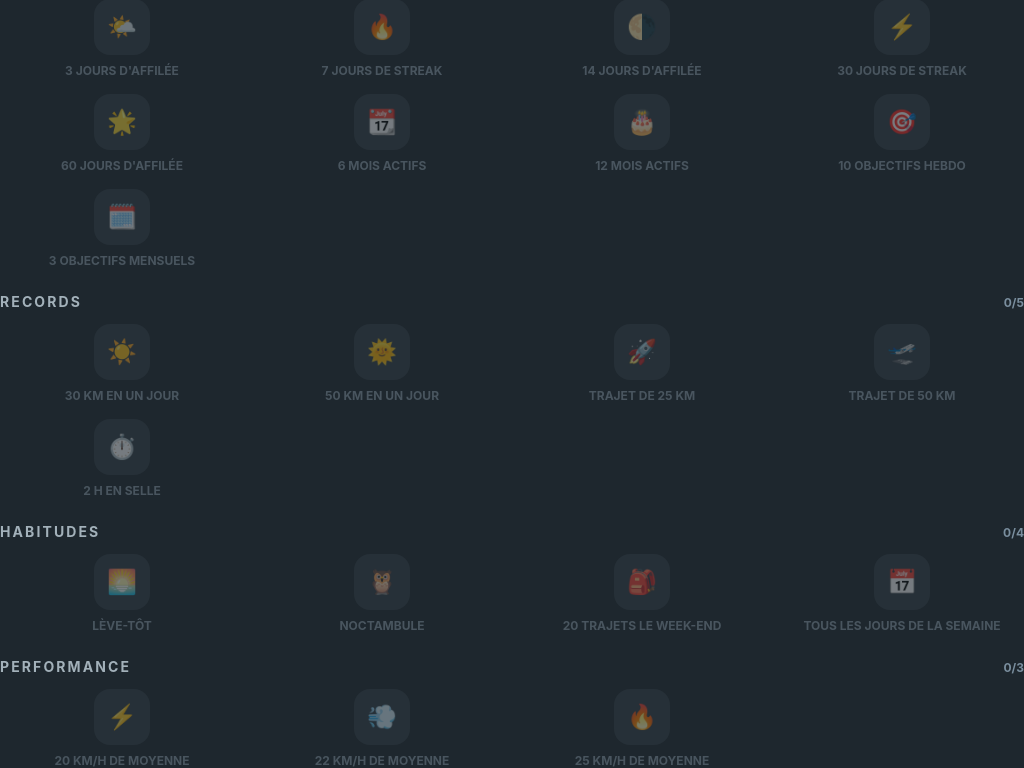
BadgeGrid › explique le critère d'un badge verrouillé au clic et se ferme avec Échap
The width and height of the screenshot is (1024, 768).
Click the button "🌅 Lève-tôt" at x=122, y=594, box [0,554,244,633]
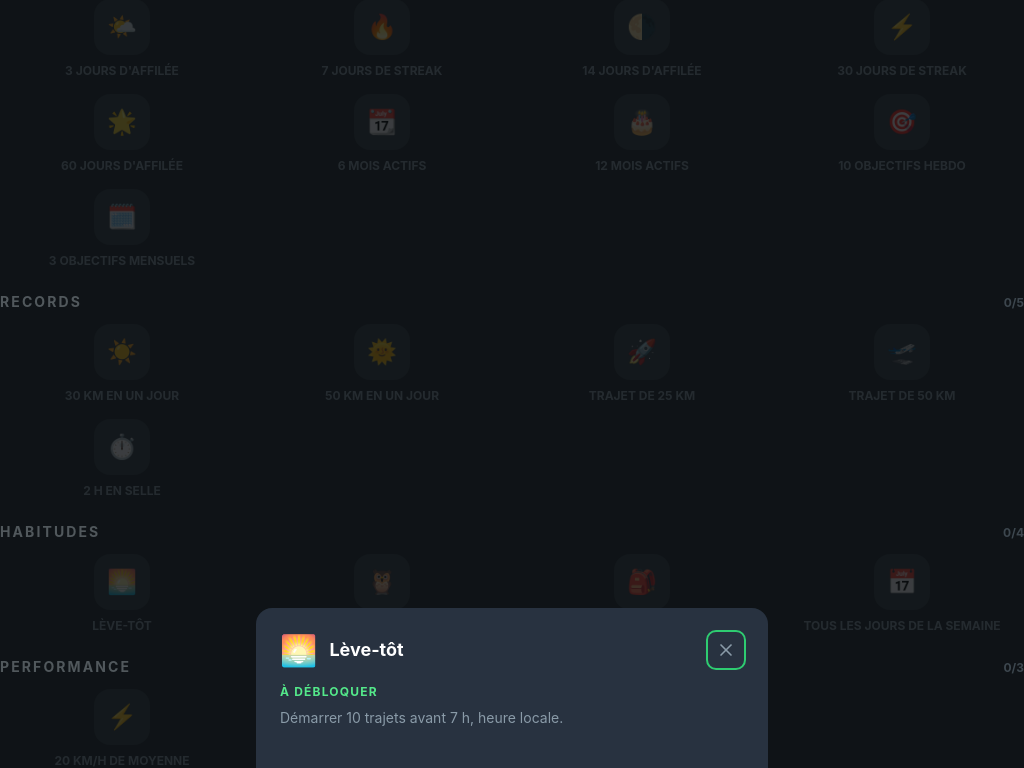
Check: the dialog "Lève-tôt" is shown
Check: the text "Démarrer 10 trajets avant 7 h, heure locale." is shown, box [280,709,563,726]
Check: the text "À débloquer" is shown, box [280,684,378,699]
Press Escape
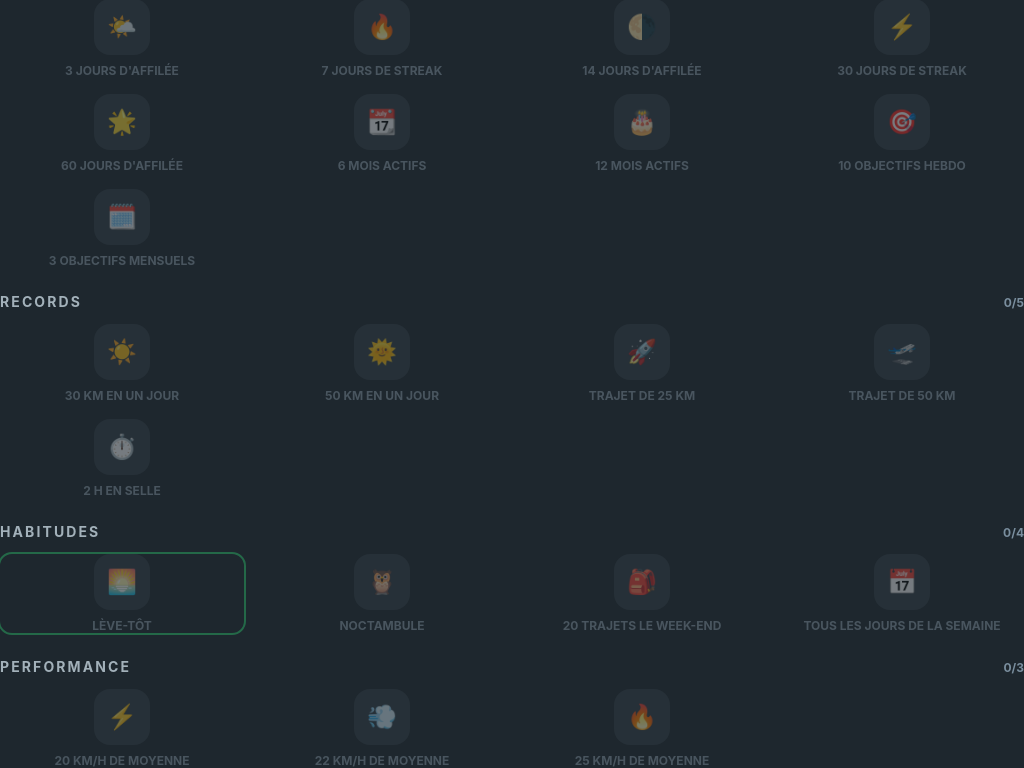
Check: the dialog is gone
